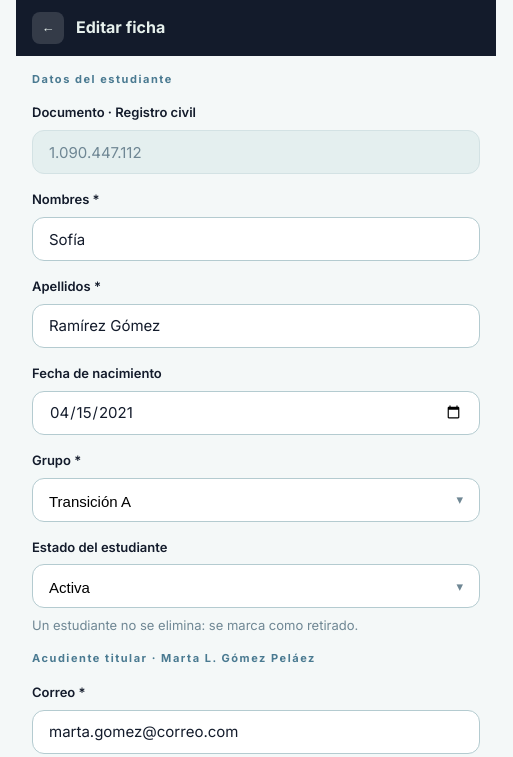
Test case: editar ficha (HU01-E3) › un teléfono vacío se envía como null y el retiro va a la ficha del estudiante
The width and height of the screenshot is (513, 757).
Select "Retirada" in the dropdown labelled "Estado del estudiante" at (256, 586), box [33,566,479,608]
(page scrolled)
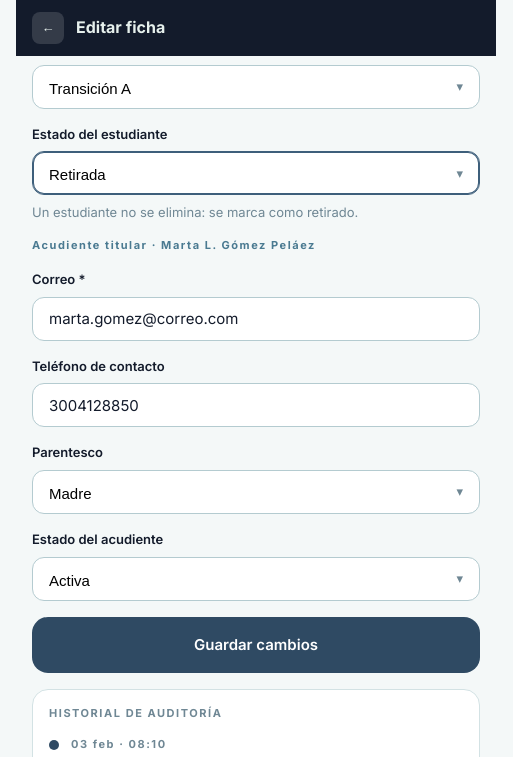
Clear the field labelled "Teléfono de contacto" at (256, 405), box [33,384,479,426]
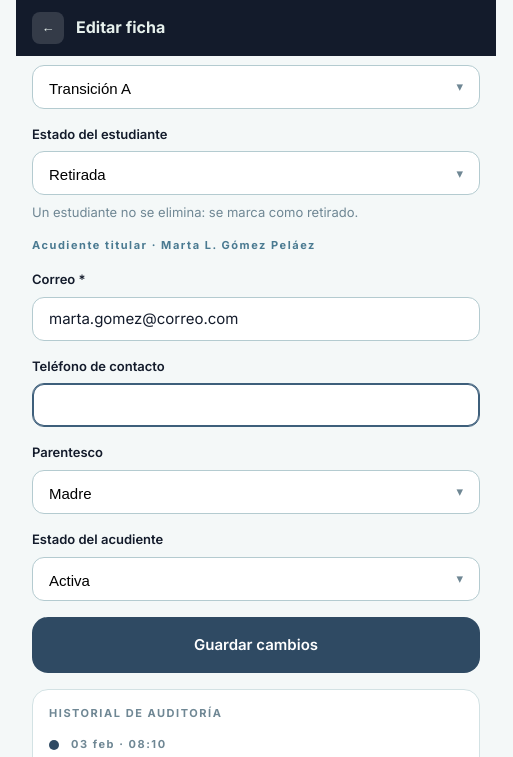
Click the button "Guardar cambios".
click(256, 645)  # box [32,617,480,673]
(page scrolled)
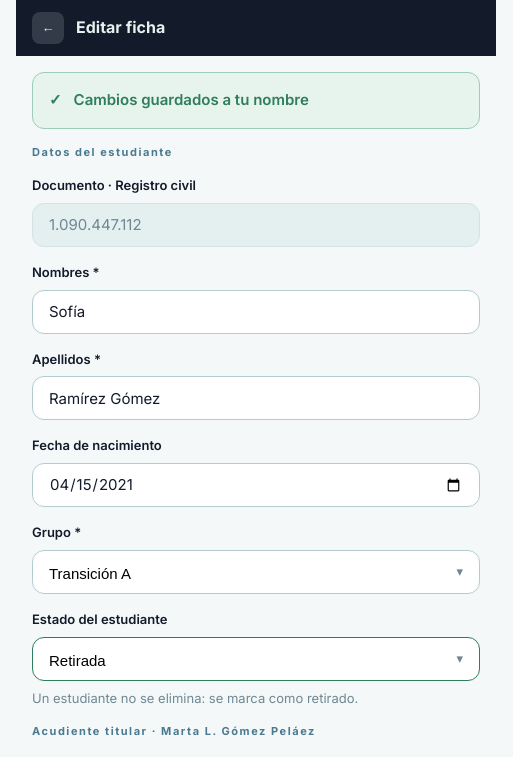
Now the text "Cambios guardados a tu nombre" is shown, box [74,90,309,109]
